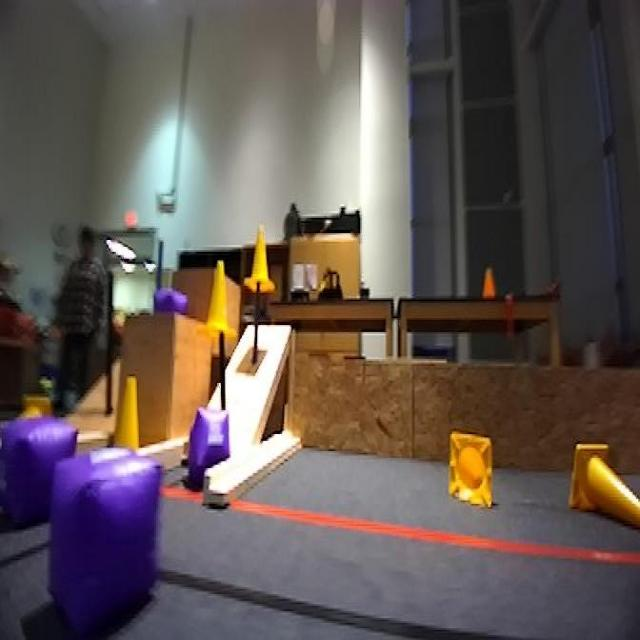frc_cone: (568, 444, 640, 536), (443, 424, 508, 521), (248, 220, 281, 291), (117, 369, 140, 434), (212, 282, 234, 332), (22, 385, 51, 417)
frc_cube: (79, 446, 180, 609), (6, 417, 75, 534), (196, 407, 238, 458), (156, 279, 192, 320)
